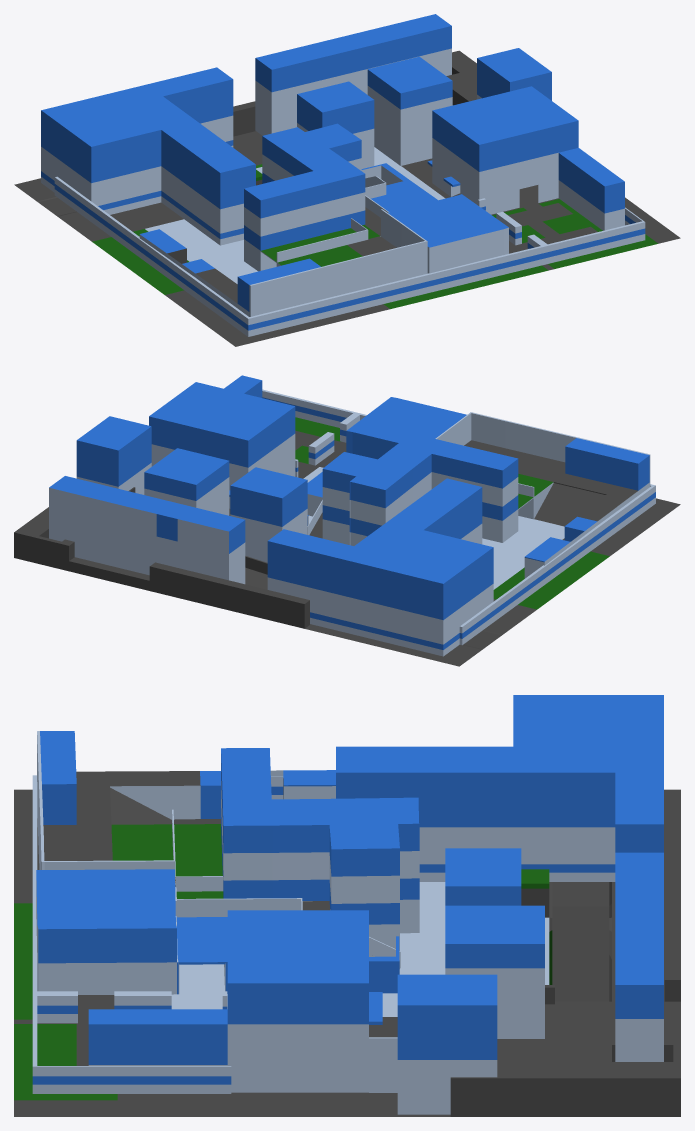
The model's file is hazmob.glb.
3 renders of one model, top to bottom at view 1: azimuth 30°, elevation 25°; view 2: azimuth 150°, elevation 25°; view 3: azimuth 270°, elevation 25°, orthographic. The views are drawn at different scales.
Parts seen in each view (by area): view 1: Cube.004_4, Plane_6, Cube_0, Cube.003_3, Cube.005_5, Cube.002_2, Cube.001_1; view 2: Cube.004_4, Plane_6, Cube.003_3, Cube_0, Cube.002_2, Cube.001_1, Cube.005_5; view 3: Cube.004_4, Plane_6, Cube_0, Cube.001_1, Cube.003_3, Cube.005_5, Cube.002_2.
Boxes of the visible parts, x1,y1,x2,y2 form: Cube.004_4: [41, 67, 645, 336]; Plane_6: [14, 50, 680, 346]; Cube_0: [427, 86, 624, 230]; Cube.003_3: [255, 14, 451, 135]; Cube.005_5: [367, 56, 452, 165]; Cube.002_2: [297, 81, 374, 168]; Cube.001_1: [477, 48, 551, 100]; Cube.004_4: [262, 389, 655, 656]; Plane_6: [14, 417, 680, 666]; Cube.003_3: [49, 476, 245, 584]; Cube_0: [149, 375, 295, 508]; Cube.002_2: [230, 467, 307, 562]; Cube.001_1: [76, 416, 151, 494]; Cube.005_5: [144, 448, 229, 515]; Cube.004_4: [32, 695, 663, 1093]; Plane_6: [14, 789, 680, 1116]; Cube_0: [88, 910, 382, 1092]; Cube.001_1: [369, 974, 497, 1114]; Cube.003_3: [615, 852, 663, 1061]; Cube.005_5: [445, 905, 544, 1038]; Cube.002_2: [445, 848, 521, 905].
Size of the model in its own units: 32.21 by 5.2 by 27.76.
